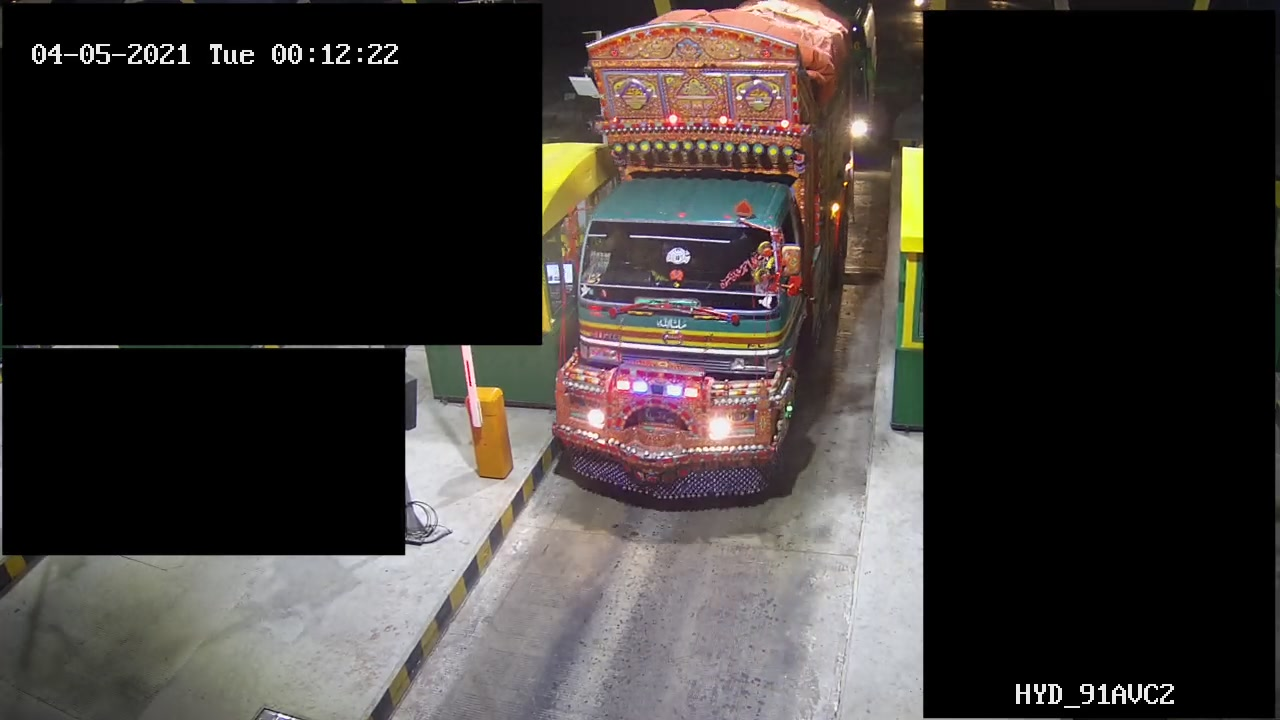F5: (533, 1, 857, 517)
